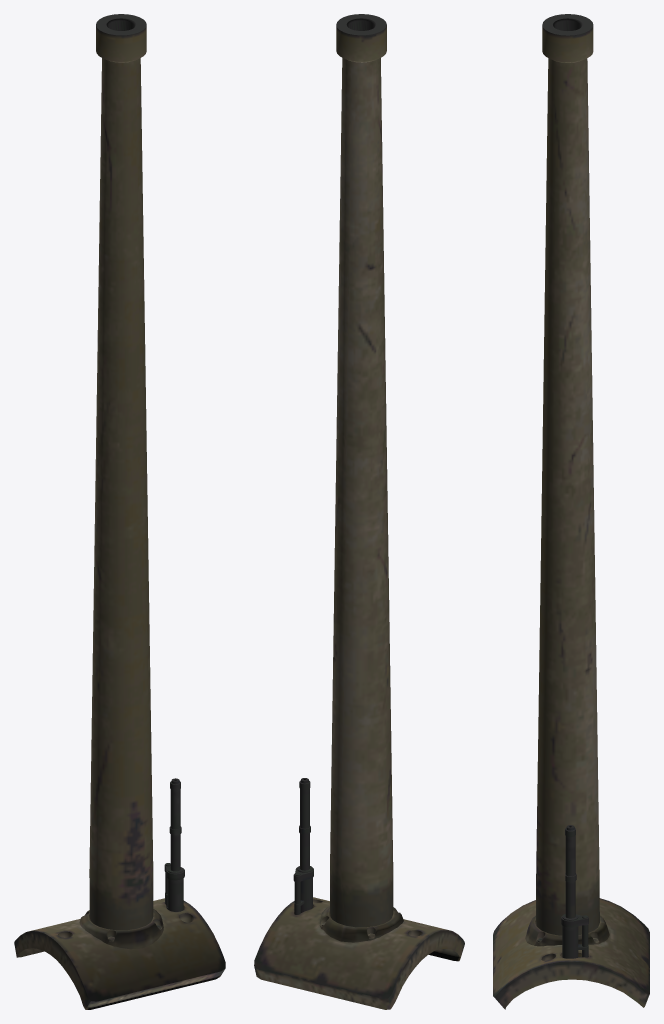
Rendered from Gun_01.glb.
3 renders of one model, left to right at view 1: azimuth 30°, elevation 25°; view 2: azimuth 150°, elevation 25°; view 3: azimuth 270°, elevation 25°, orthographic.
Parts seen in each view (by area): view 1: set_0_group_0; view 2: set_0_group_0; view 3: set_0_group_0.
Boxes of the visible parts, x1,y1,x2,y2 form: set_0_group_0: (14,14,225,1009); set_0_group_0: (254,14,464,1009); set_0_group_0: (493,14,649,1009).
Size of the model in its own units: 0.5431 by 3.56 by 0.5311.
Materials: 1 (1 with a texture image).
